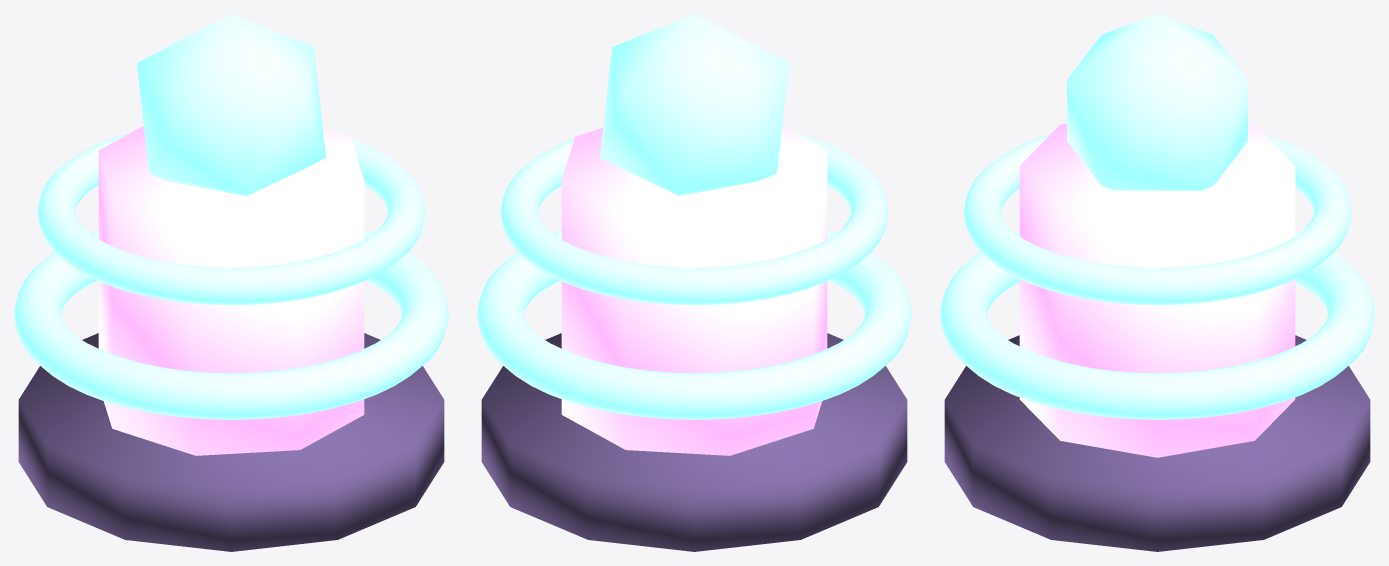
Rendered from hazard-bumper.glb.
3 renders of one model, left to right at view 1: azimuth 30°, elevation 25°; view 2: azimuth 150°, elevation 25°; view 3: azimuth 270°, elevation 25°, orthographic.
Parts seen in each view (by area): view 1: Cylinder.001, Cylinder, Torus, Icosphere, Torus.001; view 2: Cylinder.001, Cylinder, Torus, Icosphere, Torus.001; view 3: Cylinder.001, Cylinder, Torus, Icosphere, Torus.001.
Part boxes in pixels (left/top/right/bottom): Cylinder.001: left=98, top=126, right=364, bottom=455; Cylinder: left=18, top=333, right=444, bottom=551; Torus: left=14, top=230, right=448, bottom=419; Icosphere: left=137, top=14, right=325, bottom=195; Torus.001: left=37, top=132, right=425, bottom=305; Cylinder.001: left=561, top=126, right=827, bottom=455; Cylinder: left=481, top=333, right=907, bottom=551; Torus: left=477, top=230, right=911, bottom=419; Icosphere: left=600, top=14, right=788, bottom=195; Torus.001: left=500, top=132, right=888, bottom=305; Cylinder.001: left=1019, top=123, right=1295, bottom=457; Cylinder: left=944, top=335, right=1370, bottom=551; Torus: left=940, top=232, right=1374, bottom=419; Icosphere: left=1067, top=14, right=1247, bottom=190; Torus.001: left=963, top=134, right=1351, bottom=305.
Bounding box in the file's own units: 1.39 × 1.58 × 1.39.
